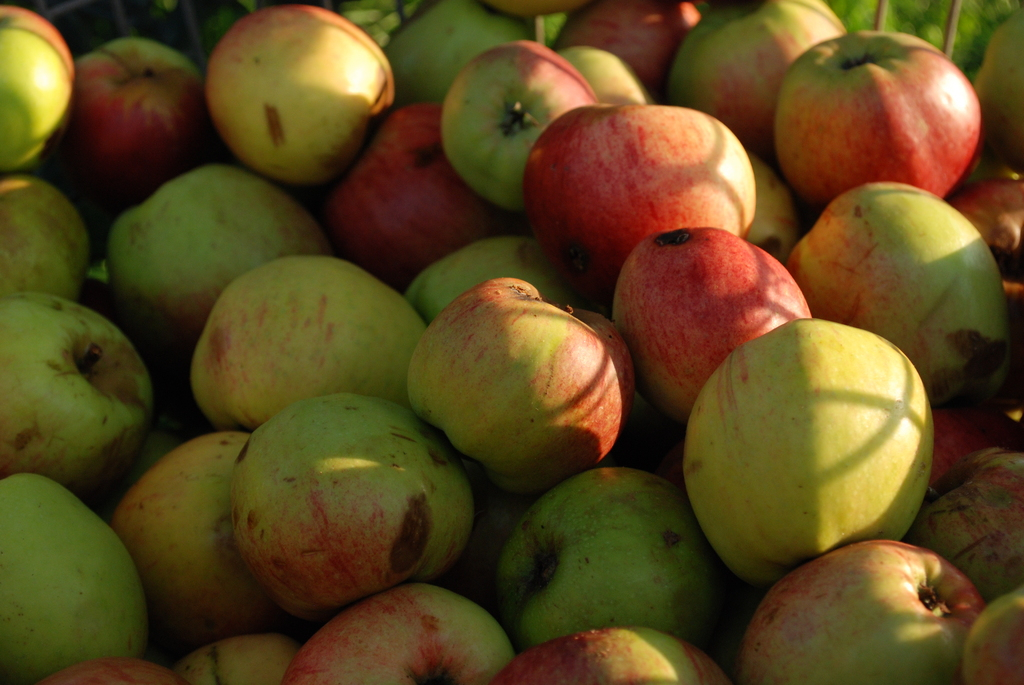Apple: (0, 0, 1023, 684), (769, 31, 993, 200)
